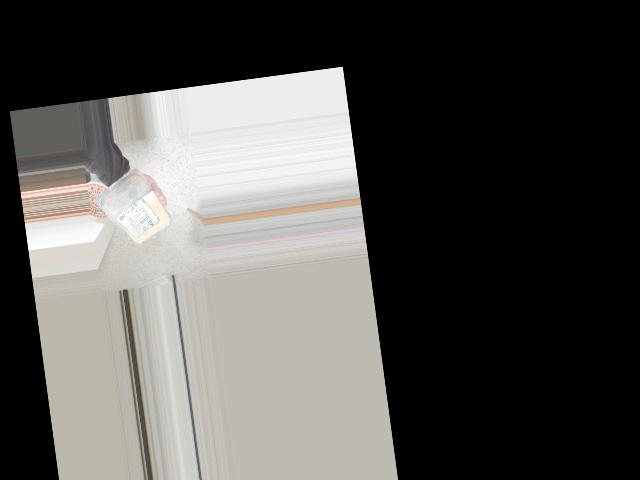cheese: (94, 170, 167, 254)
